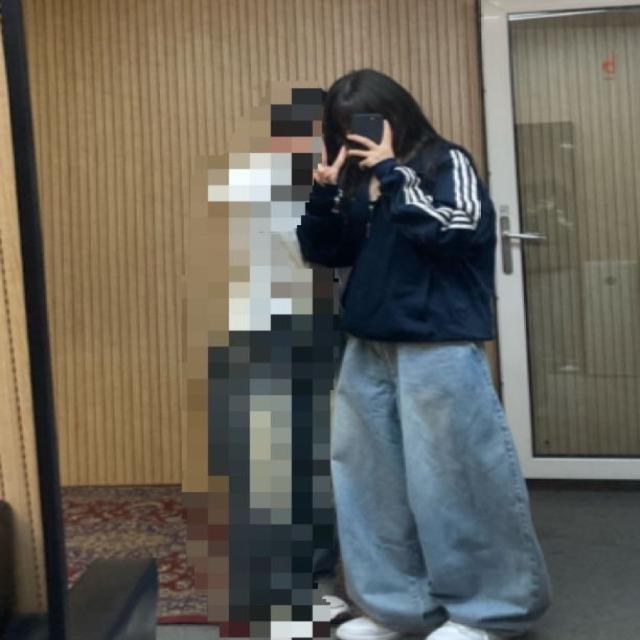denimpants: (329, 332, 552, 640)
jacket: (300, 138, 500, 344)
